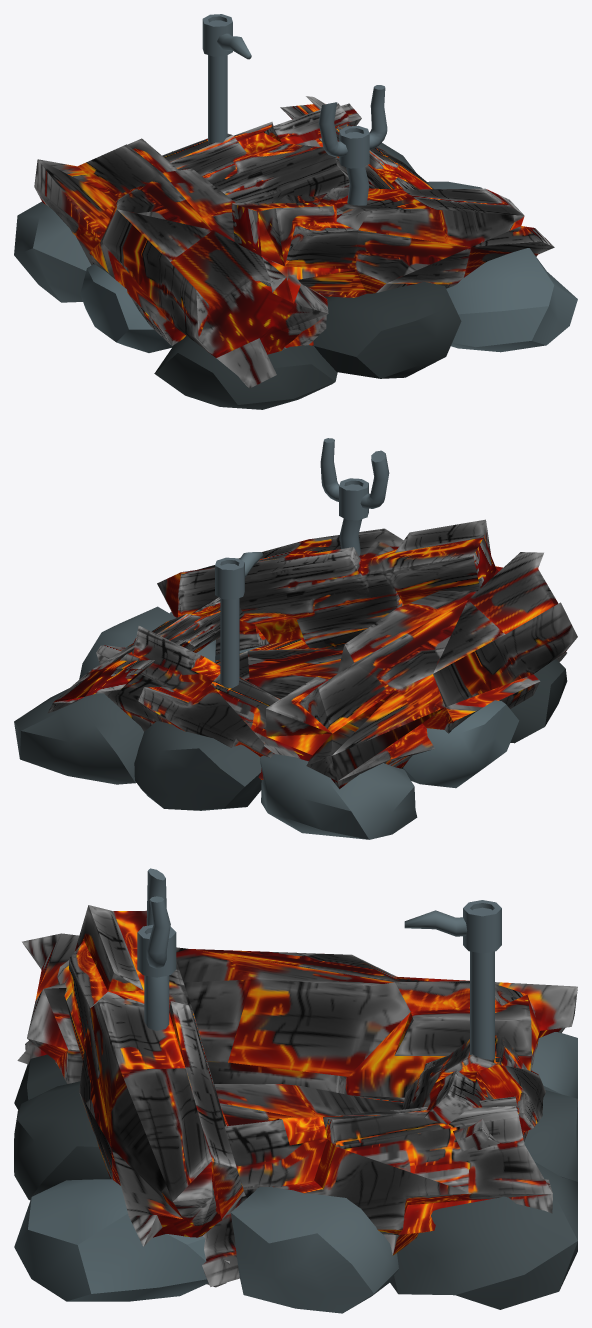
The model's file is fant_campfire_1.obj.
3 views of the same model, one above another, from view 1: azimuth 30°, elevation 25°; view 2: azimuth 150°, elevation 25°; view 3: azimuth 270°, elevation 25° (orthographic). The views are drawn at different scales.
Visible parts, largest first — view 1: fant_campfire_Mesh; view 2: fant_campfire_Mesh; view 3: fant_campfire_Mesh.
Boxes of the visible parts, bbox=[...] form: fant_campfire_Mesh: bbox=[14, 14, 577, 409]; fant_campfire_Mesh: bbox=[14, 438, 577, 839]; fant_campfire_Mesh: bbox=[14, 868, 577, 1313].
Bounding box in the file's own units: 3 × 1.82 × 3.
